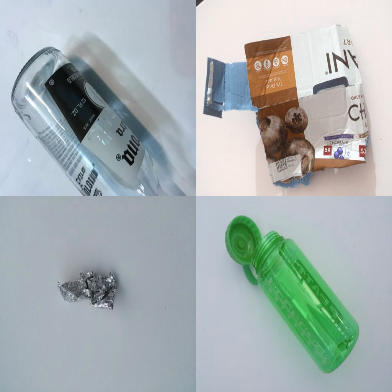cardboard: (204, 24, 374, 187)
glass: (12, 46, 174, 196)
metal: (57, 271, 120, 309)
plastic: (225, 215, 360, 373)
